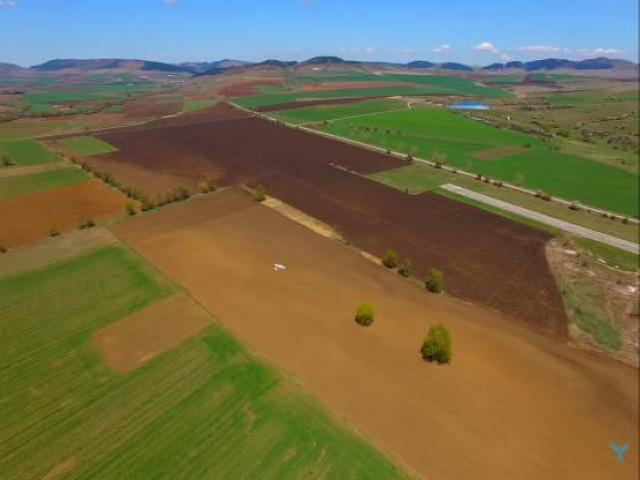uav: (268, 257, 290, 274)
